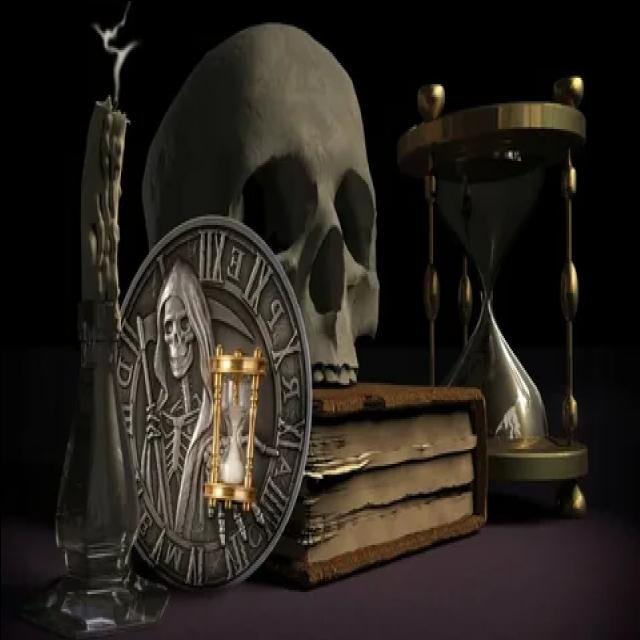clock: (398, 46, 602, 548)
